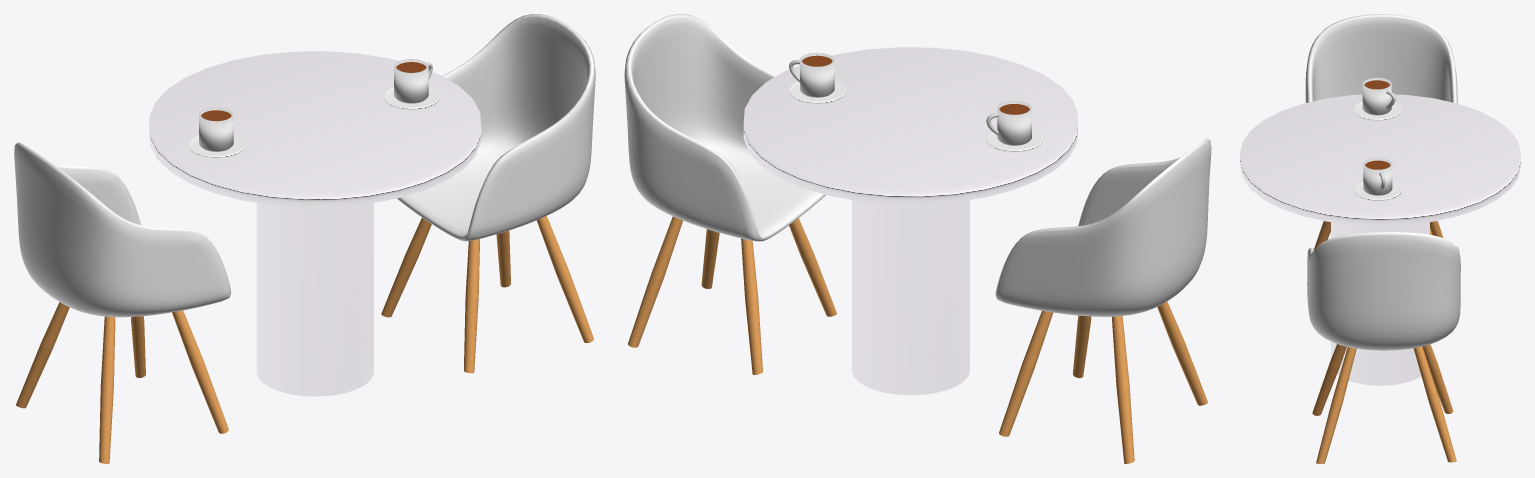
The model's file is Cocinax2Iz.fbx.
The picture shows the model from 3 angles, left to right: view 1: azimuth 30°, elevation 25°; view 2: azimuth 150°, elevation 25°; view 3: azimuth 270°, elevation 25°; orthographic projection. The views are drawn at different scales.
Visible parts, largest first — view 1: Cilindro, Cilindro.024, Cilindro.021, Cilindro.004, Cilindro.002; view 2: Cilindro, Cilindro.024, Cilindro.021, Cilindro.002, Cilindro.004; view 3: Cilindro, Cilindro.024, Cilindro.021, Cilindro.004, Cilindro.002.
Boxes of the visible parts, <box> form: Cilindro: <box>149,51,481,396</box>; Cilindro.024: <box>381,14,595,373</box>; Cilindro.021: <box>14,142,231,463</box>; Cilindro.004: <box>188,107,244,158</box>; Cilindro.002: <box>383,59,439,110</box>; Cilindro: <box>743,47,1077,395</box>; Cilindro.024: <box>624,14,836,374</box>; Cilindro.021: <box>995,138,1211,463</box>; Cilindro.002: <box>788,52,845,104</box>; Cilindro.004: <box>986,101,1042,152</box>; Cilindro: <box>1240,94,1520,385</box>; Cilindro.024: <box>1307,232,1460,463</box>; Cilindro.021: <box>1305,14,1457,249</box>; Cilindro.004: <box>1353,77,1401,120</box>; Cilindro.002: <box>1354,158,1401,201</box>.
Size of the model in its own units: 688 by 350 by 369.
